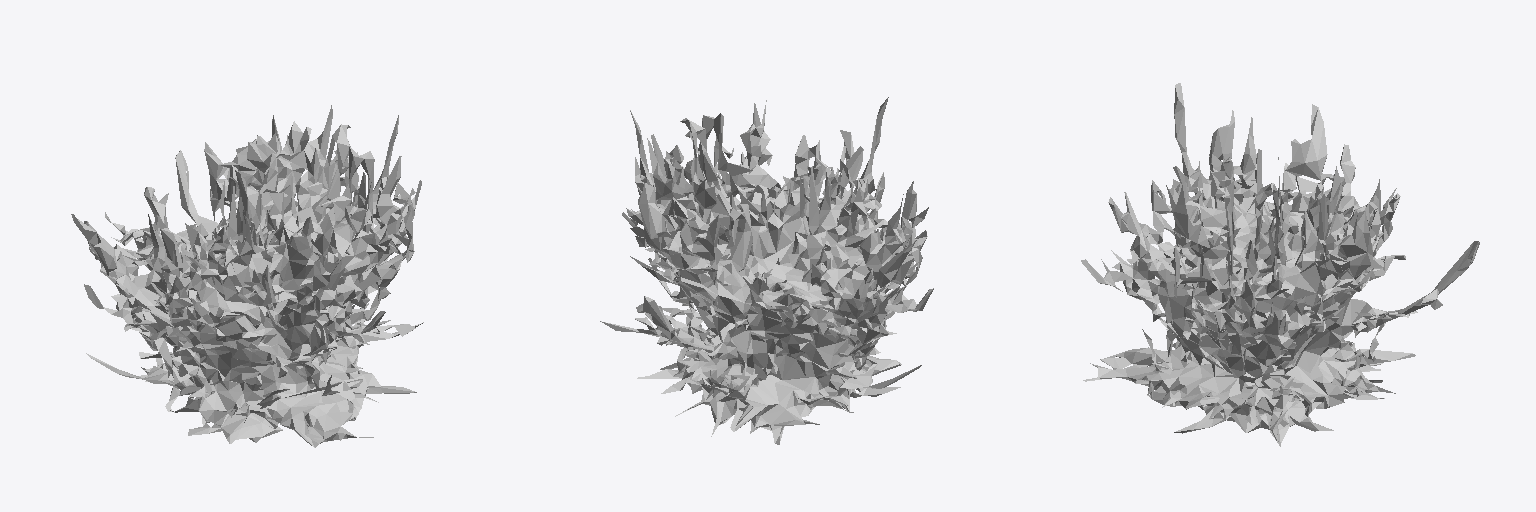
File: c020893fd61c_dry_desert_shrub_mi.obj
The picture shows the model from 3 angles: view 1: azimuth 30°, elevation 25°; view 2: azimuth 150°, elevation 25°; view 3: azimuth 270°, elevation 25°; orthographic projection.
Parts seen in each view (by area): view 1: mesh; view 2: mesh; view 3: mesh.
Boxes of the visible parts, x1,y1,x2,y2 form: mesh: [71, 105, 423, 447]; mesh: [600, 97, 933, 444]; mesh: [1081, 83, 1479, 446].
Bounding box in the file's own units: 0.9773 × 0.7702 × 1.